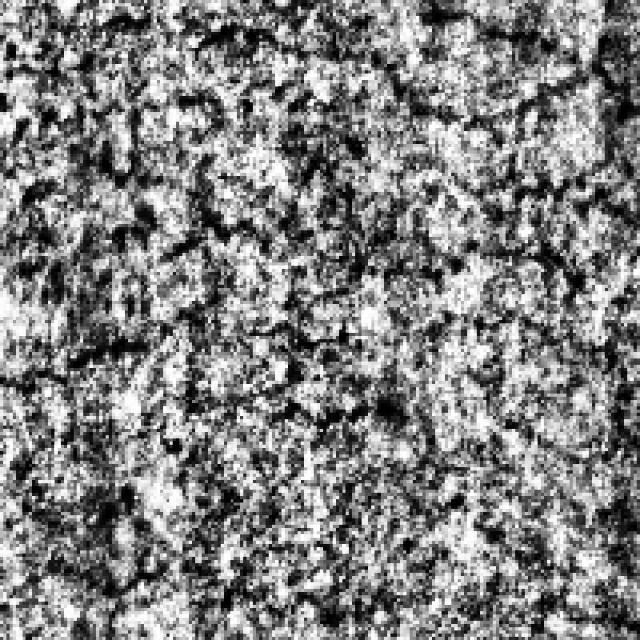Patches: (13, 288, 384, 397)
Pitted_Surface: (9, 7, 358, 426), (422, 0, 628, 474), (185, 0, 628, 141)
